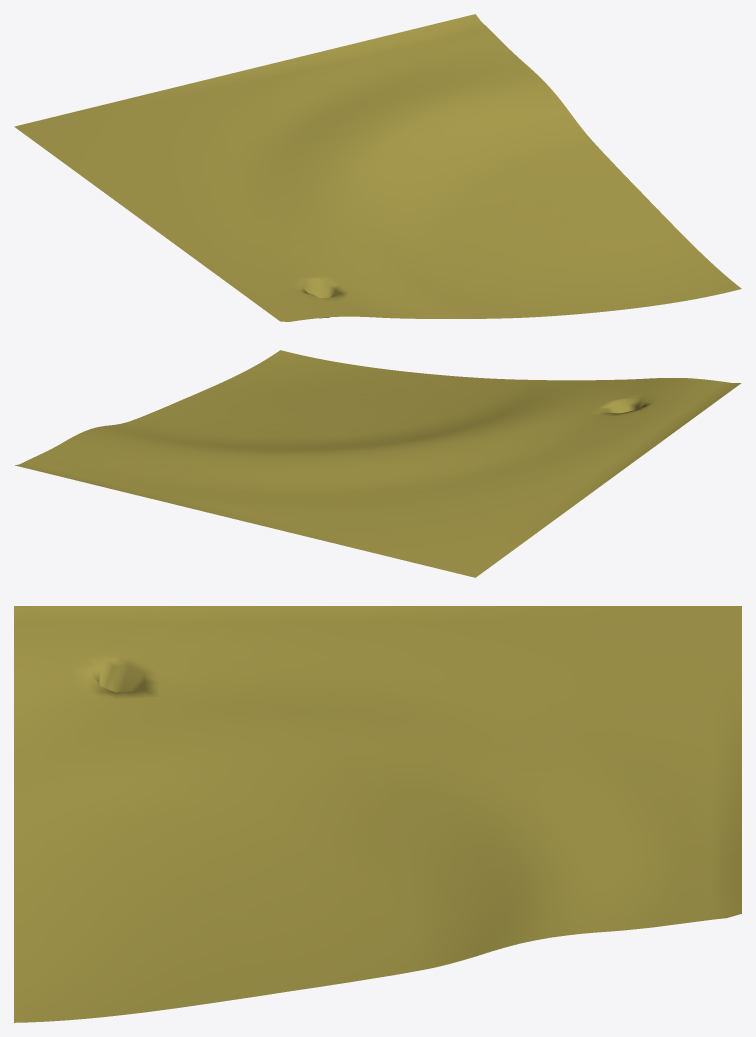
Rendered from Sand.obj.
3 views of the same model, one above another, from view 1: azimuth 30°, elevation 25°; view 2: azimuth 150°, elevation 25°; view 3: azimuth 270°, elevation 25° (orthographic). The views are drawn at different scales.
Visible parts, largest first — view 1: DaSand; view 2: DaSand; view 3: DaSand.
Part boxes in pixels (x1=…): DaSand: x1=14, y1=14, x2=741, y2=321; DaSand: x1=15, y1=350, x2=741, y2=577; DaSand: x1=14, y1=606, x2=741, y2=1022.
Bounding box in the file's own units: 5000 × 827 × 5000.
